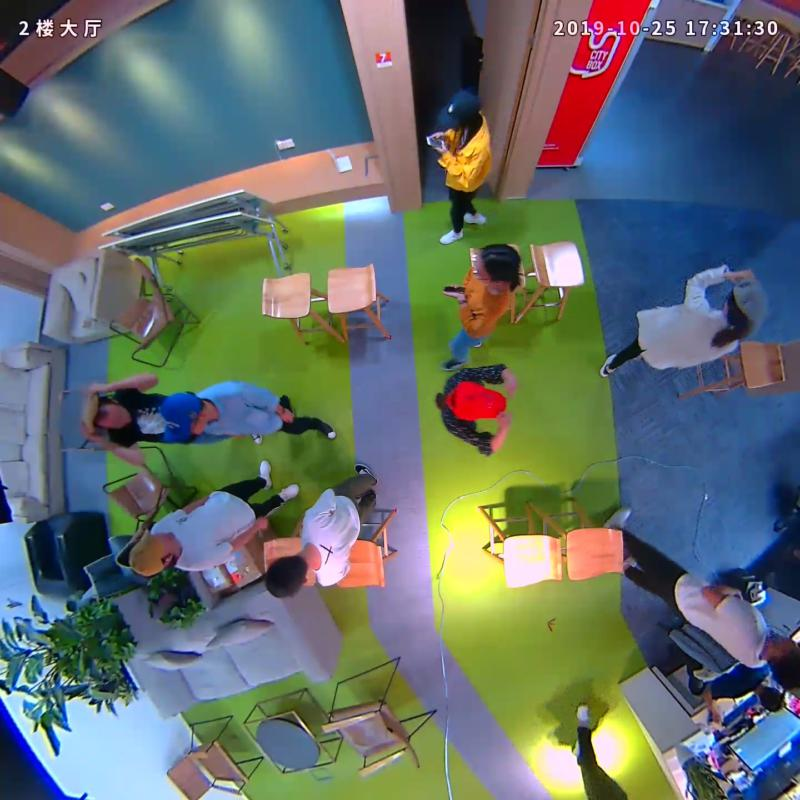head: (446, 379, 508, 421), (159, 393, 207, 446), (127, 528, 177, 577), (723, 278, 769, 331), (266, 554, 311, 599), (474, 243, 522, 285), (436, 89, 481, 132), (768, 635, 800, 690), (86, 394, 131, 431)
